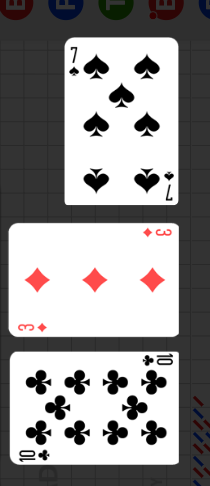10C: (18, 447, 53, 462)
3D: (140, 353, 175, 369)
7S: (68, 45, 81, 79)
